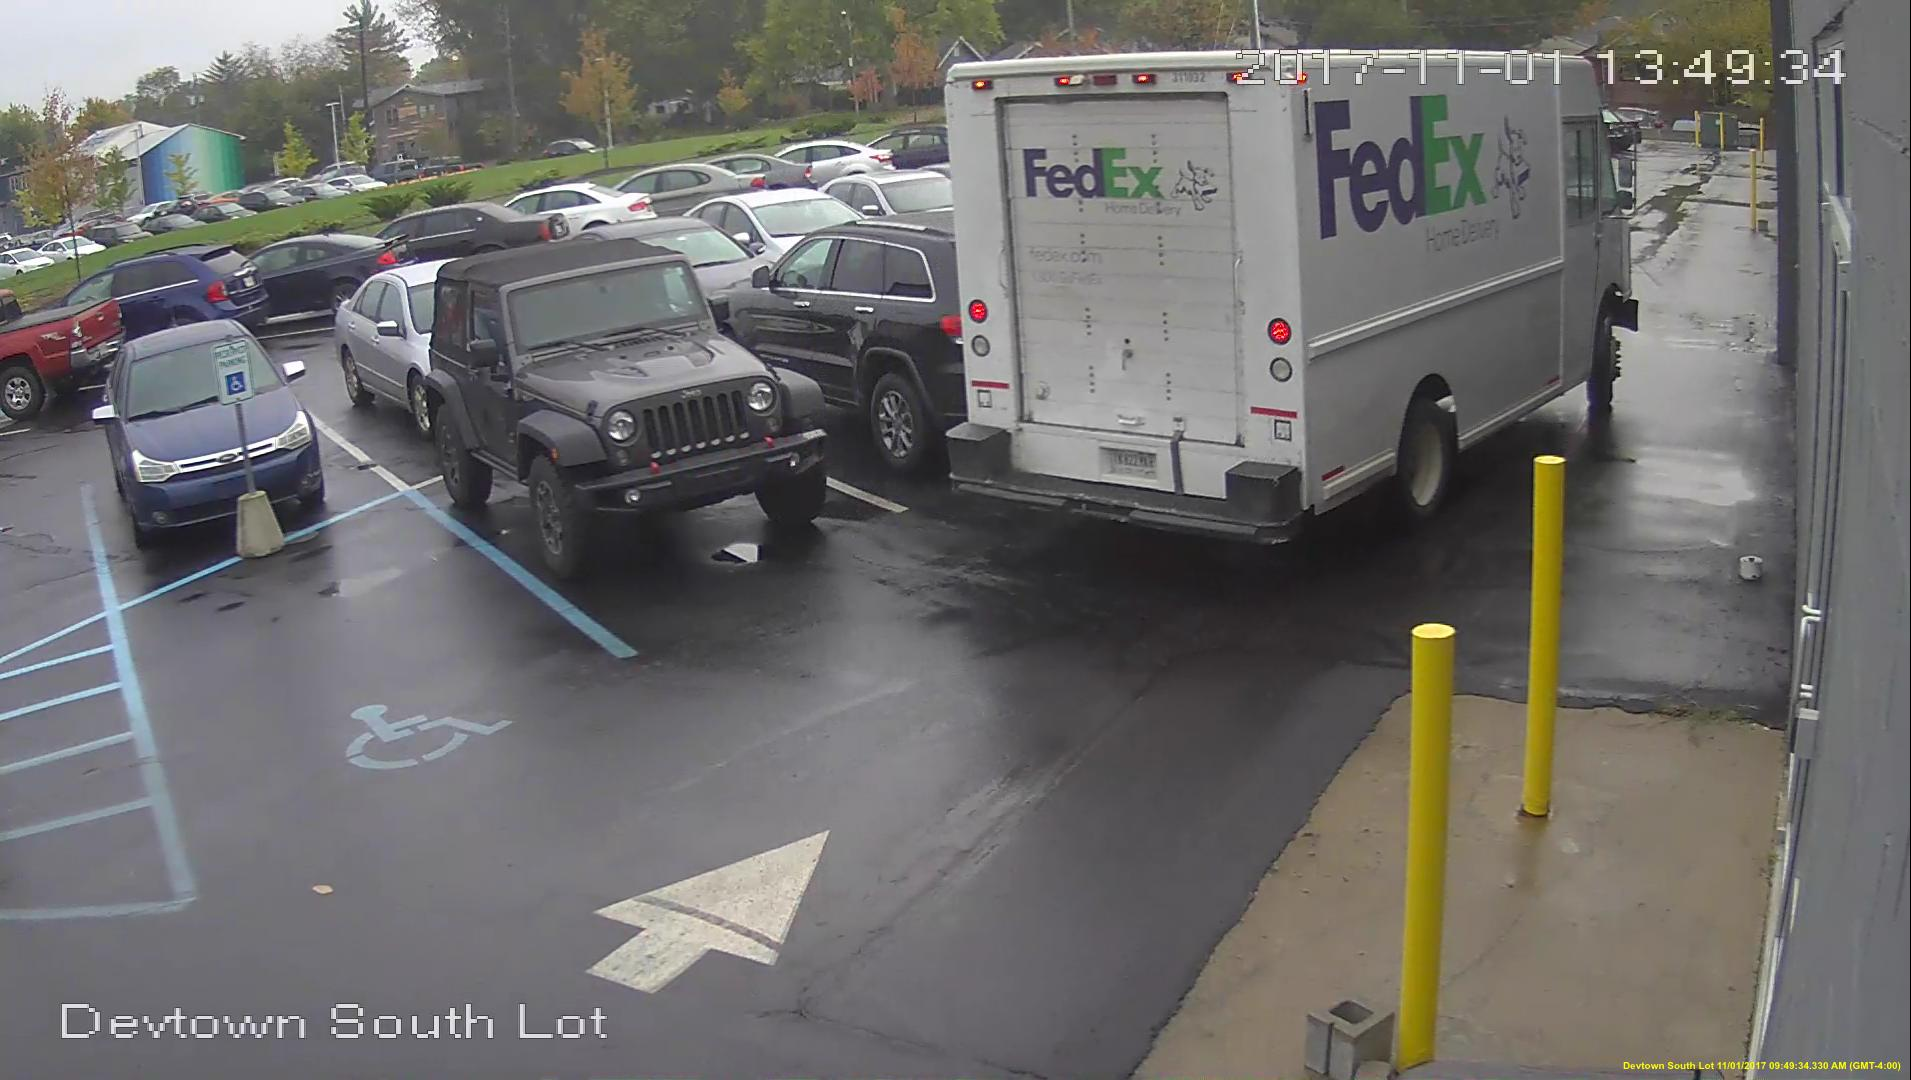fedex_truck: (946, 54, 1634, 539)
